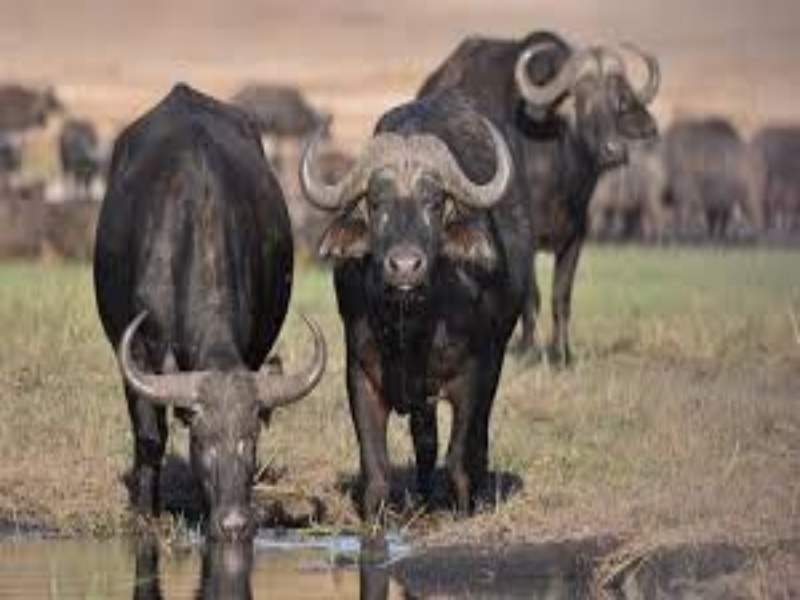buffalo: (60, 71, 527, 569)
